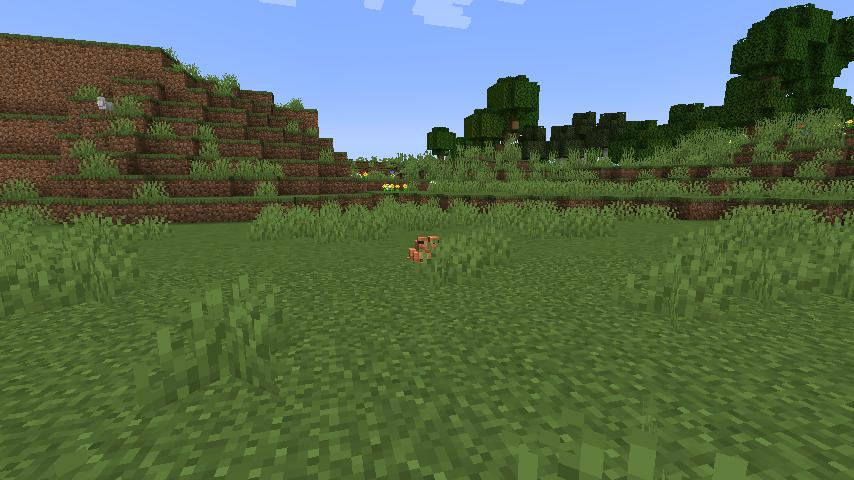chicken: (94, 92, 117, 116)
frog: (406, 231, 450, 266)
